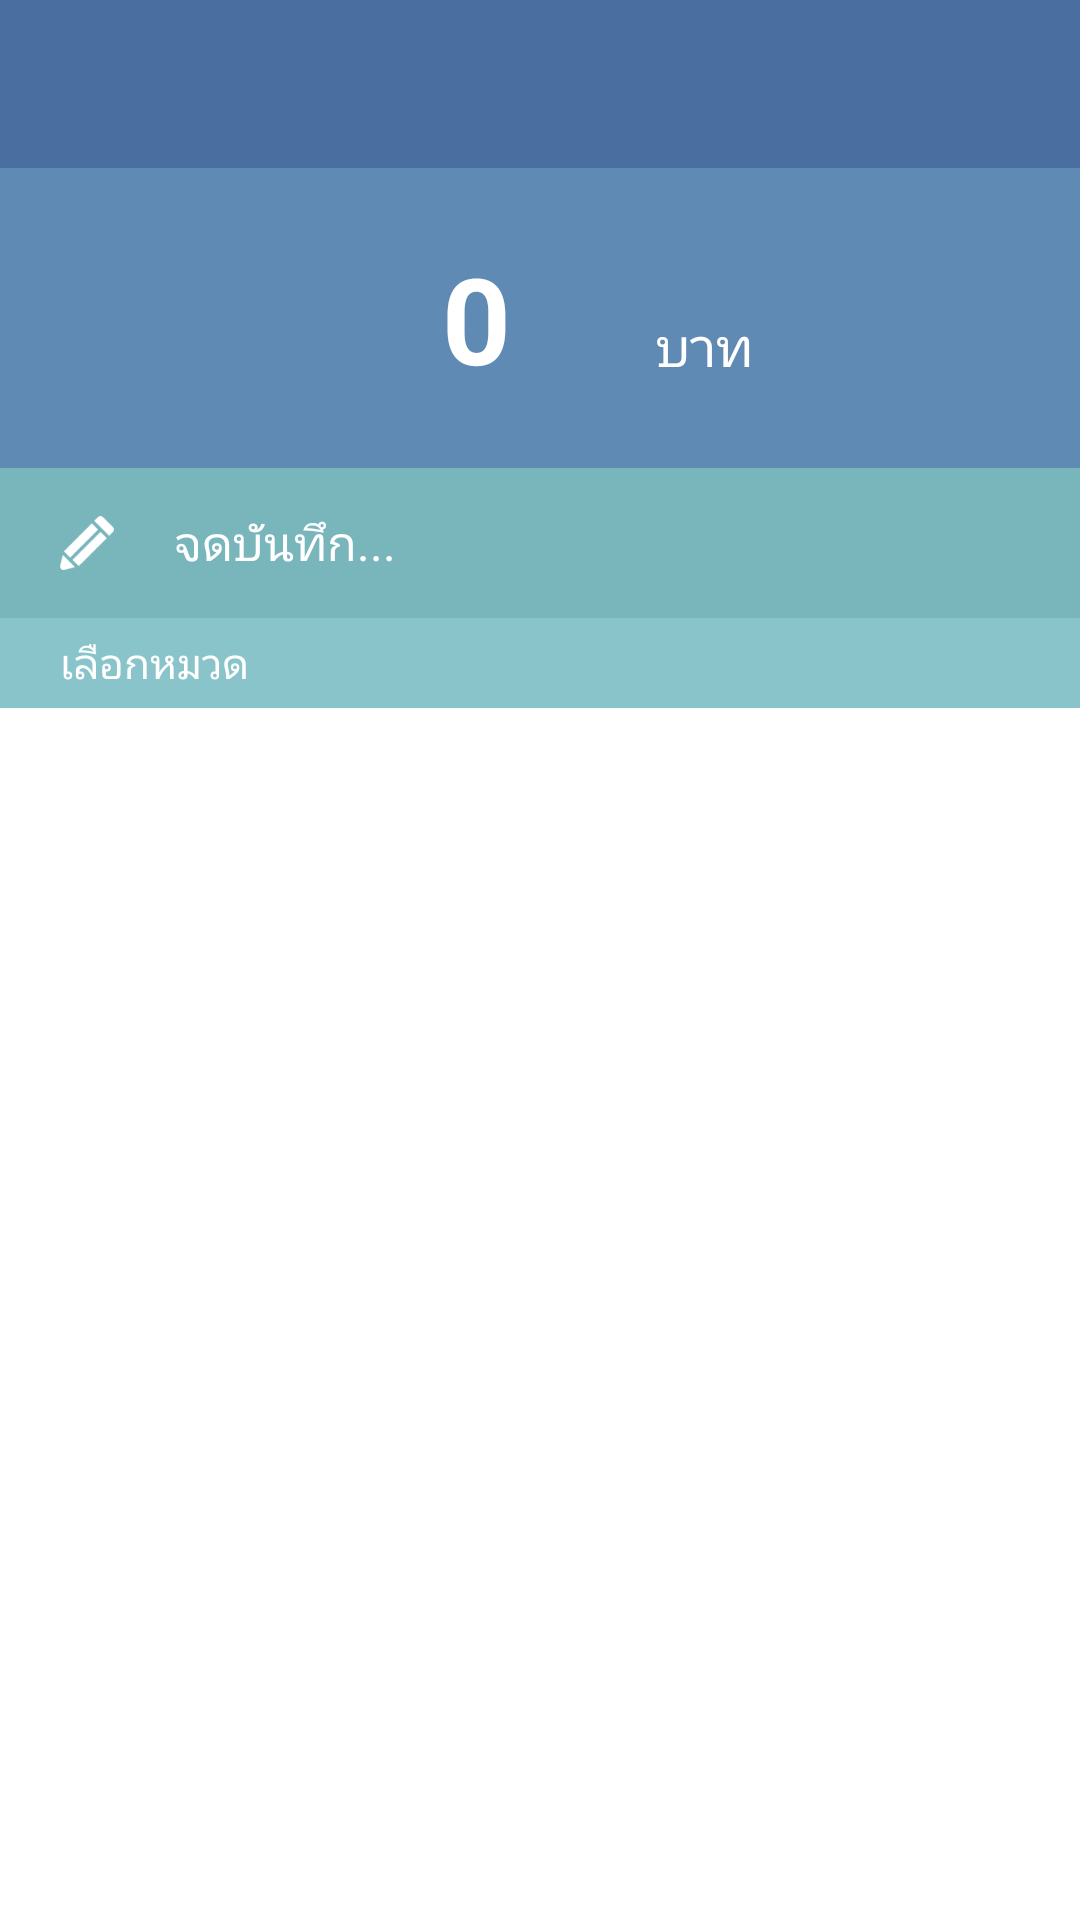

Icon bounding boxes for this 1080 x 1920 phone screenshot, format (x1, y1, x2, y2):
edit: (60, 516, 114, 570)
